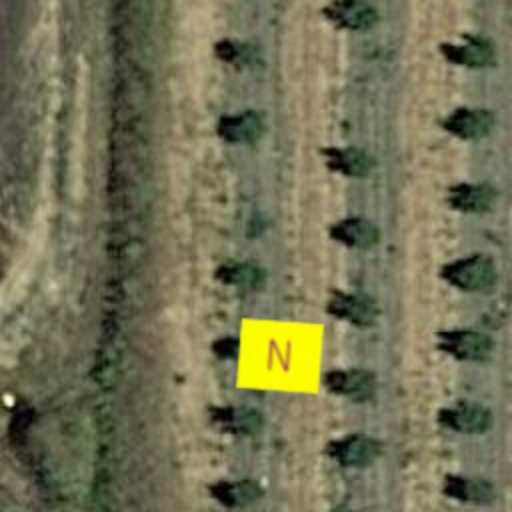rectangle: (236, 312, 324, 400)
